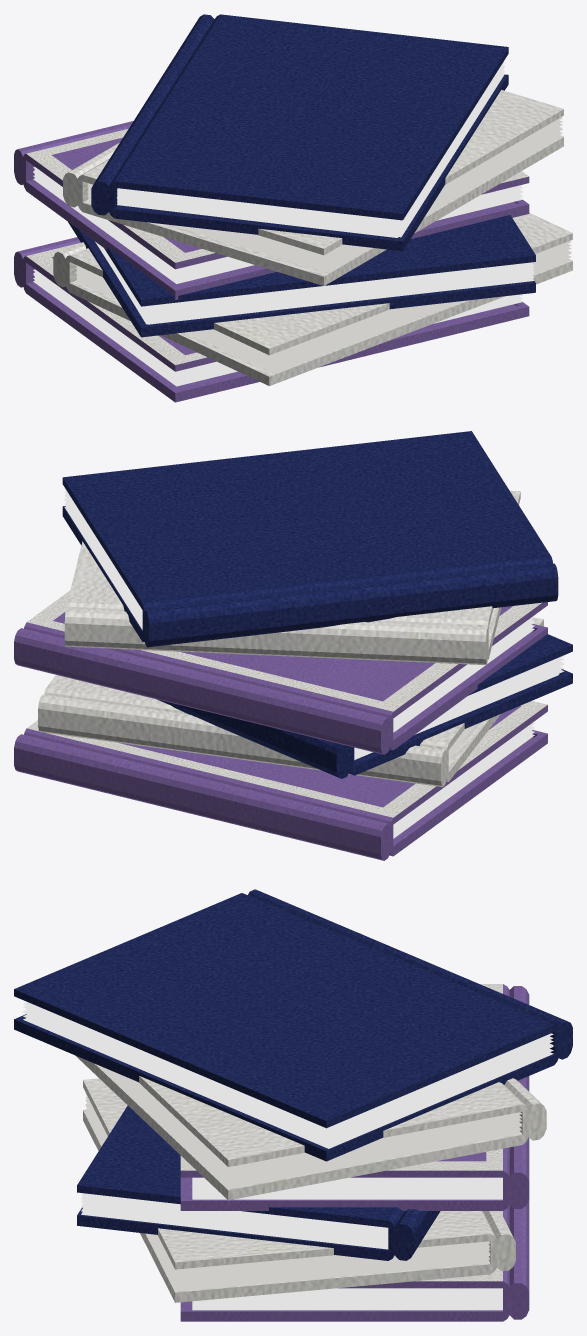
Rendered from books.fbx.
3 views of the same model, one above another, from view 1: azimuth 30°, elevation 25°; view 2: azimuth 150°, elevation 25°; view 3: azimuth 270°, elevation 25° (orthographic). The views are drawn at different scales.
Parts seen in each view (by area): view 1: Object_7, Object_5, Object_8, Object_6, Object_4, Object_2, Object_3; view 2: Object_7, Object_8, Object_5, Object_3, Object_2, Object_6; view 3: Object_7, Object_5, Object_6, Object_4, Object_8, Object_2, Object_3.
Part boxes in pixels (bbox=[...]): Object_7: bbox=[68, 14, 535, 337]; Object_5: bbox=[53, 90, 572, 385]; Object_8: bbox=[14, 121, 529, 402]; Object_6: bbox=[95, 62, 534, 324]; Object_4: bbox=[75, 117, 571, 373]; Object_2: bbox=[33, 167, 522, 386]; Object_3: bbox=[26, 128, 528, 365]; Object_7: bbox=[62, 431, 572, 778]; Object_8: bbox=[14, 602, 547, 860]; Object_5: bbox=[38, 472, 543, 787]; Object_3: bbox=[27, 590, 547, 817]; Object_2: bbox=[393, 616, 534, 838]; Object_6: bbox=[64, 488, 564, 759]; Object_7: bbox=[14, 889, 572, 1260]; Object_5: bbox=[75, 933, 546, 1302]; Object_6: bbox=[23, 1000, 553, 1249]; Object_4: bbox=[85, 1065, 521, 1291]; Object_8: bbox=[180, 984, 529, 1321]; Object_2: bbox=[192, 1177, 502, 1310]; Object_3: bbox=[180, 984, 502, 1281].
Bounding box in the file's own units: 259 × 112 × 253.
